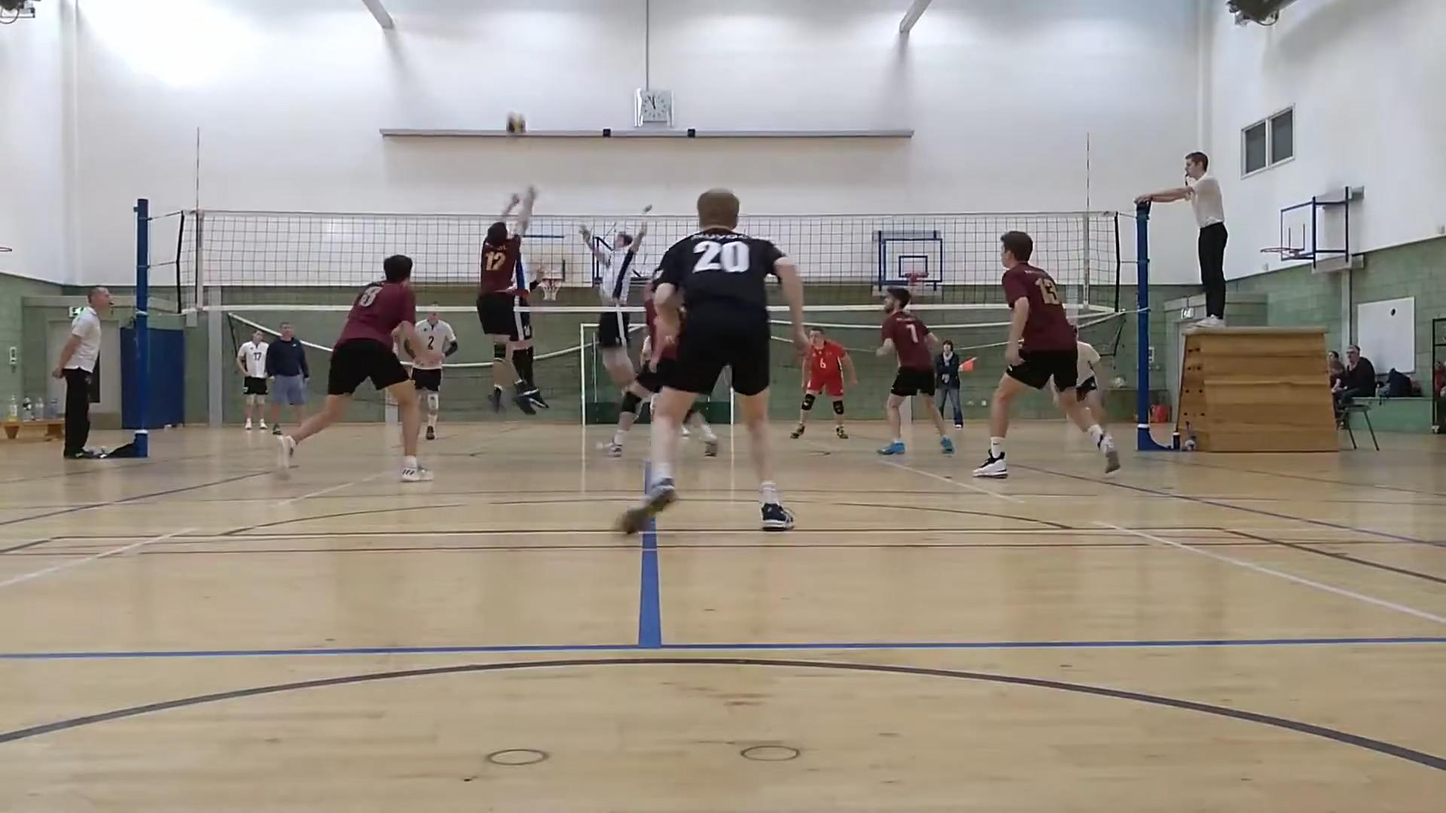attacco: (571, 181, 655, 404)
muro: (471, 183, 551, 413)
